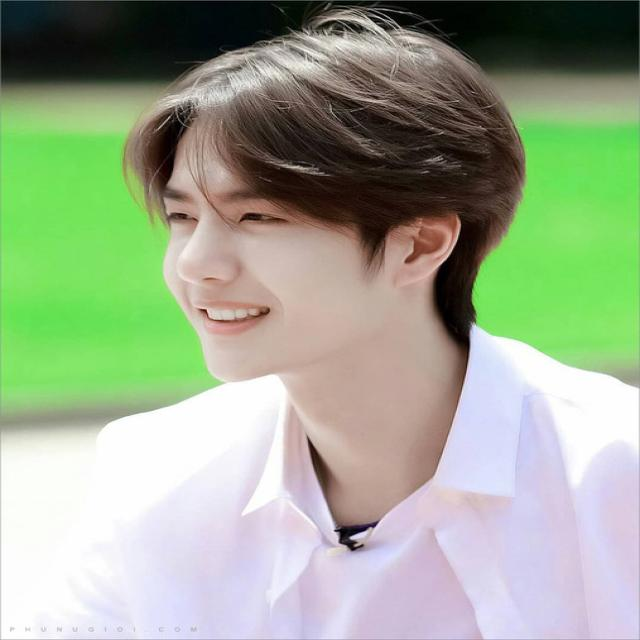Nonhelmet: (116, 5, 530, 382)
